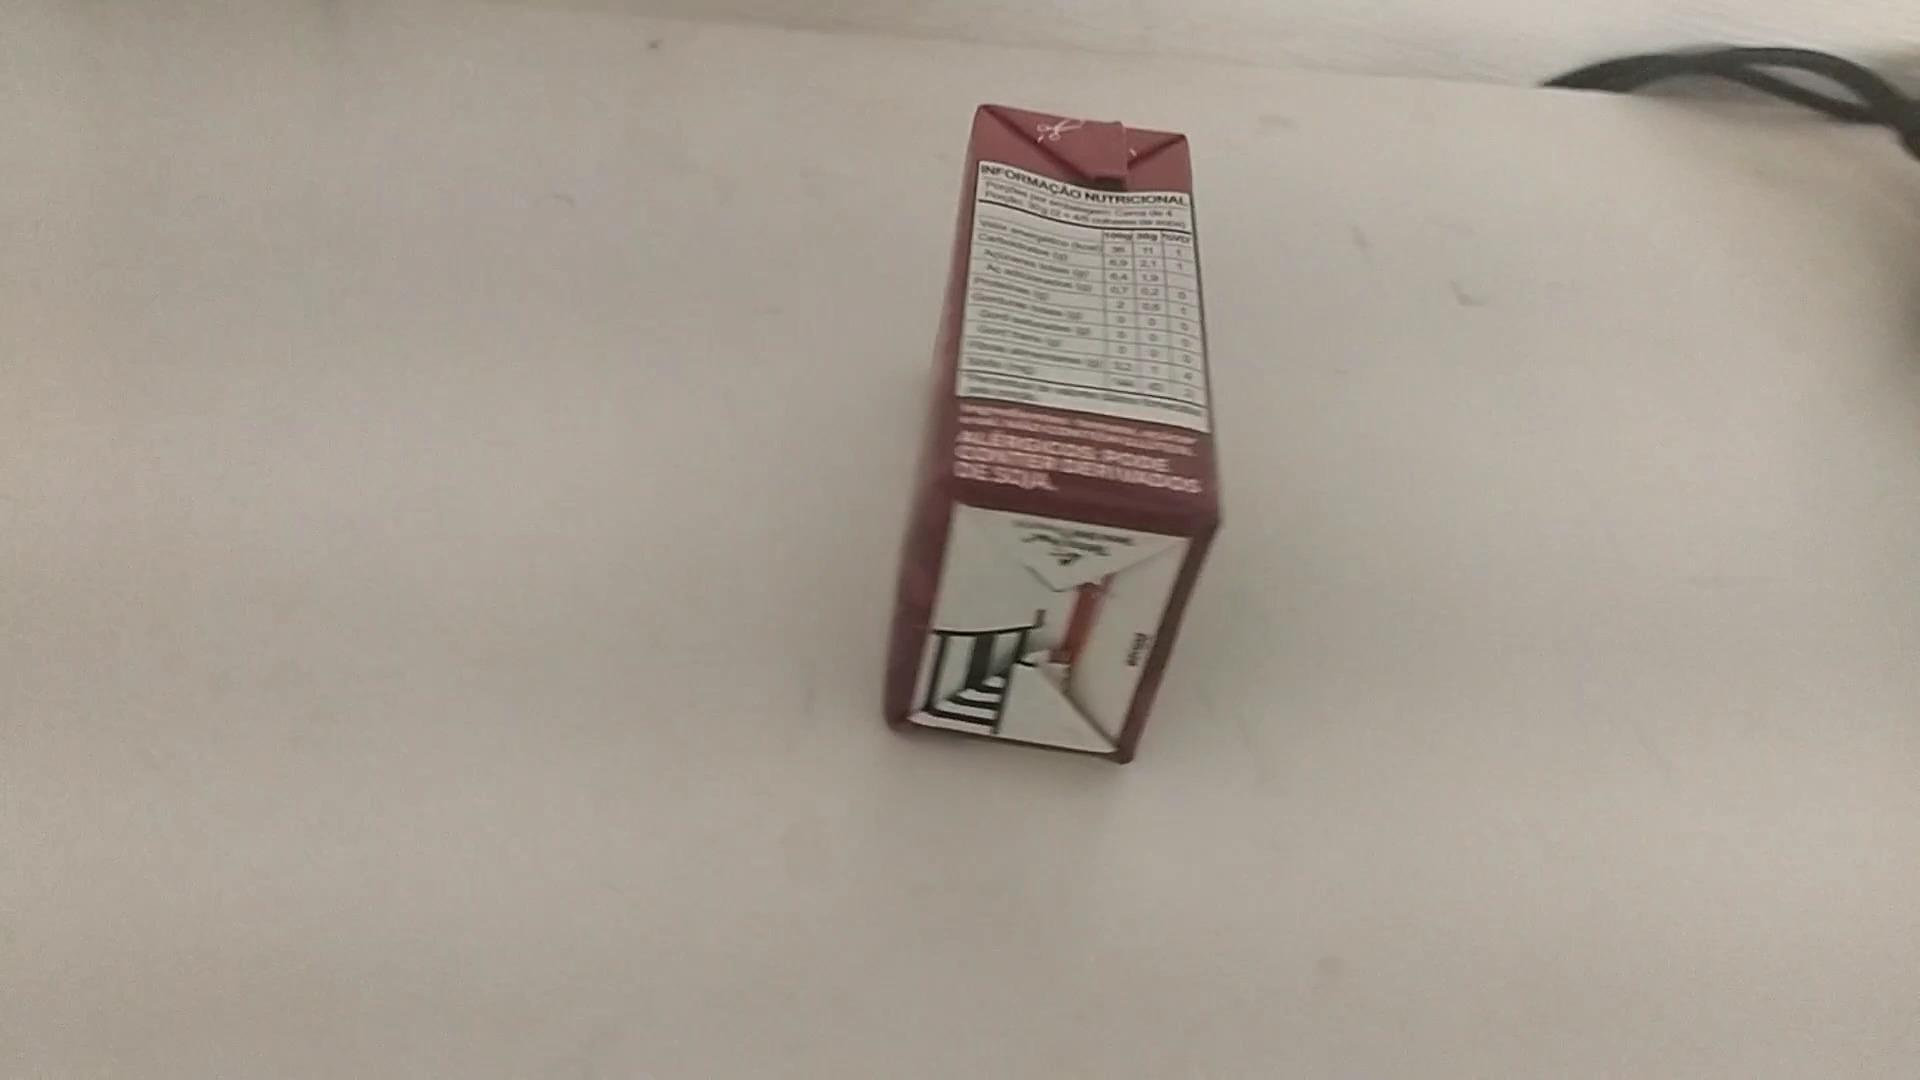tomate: (886, 102, 1224, 770)
